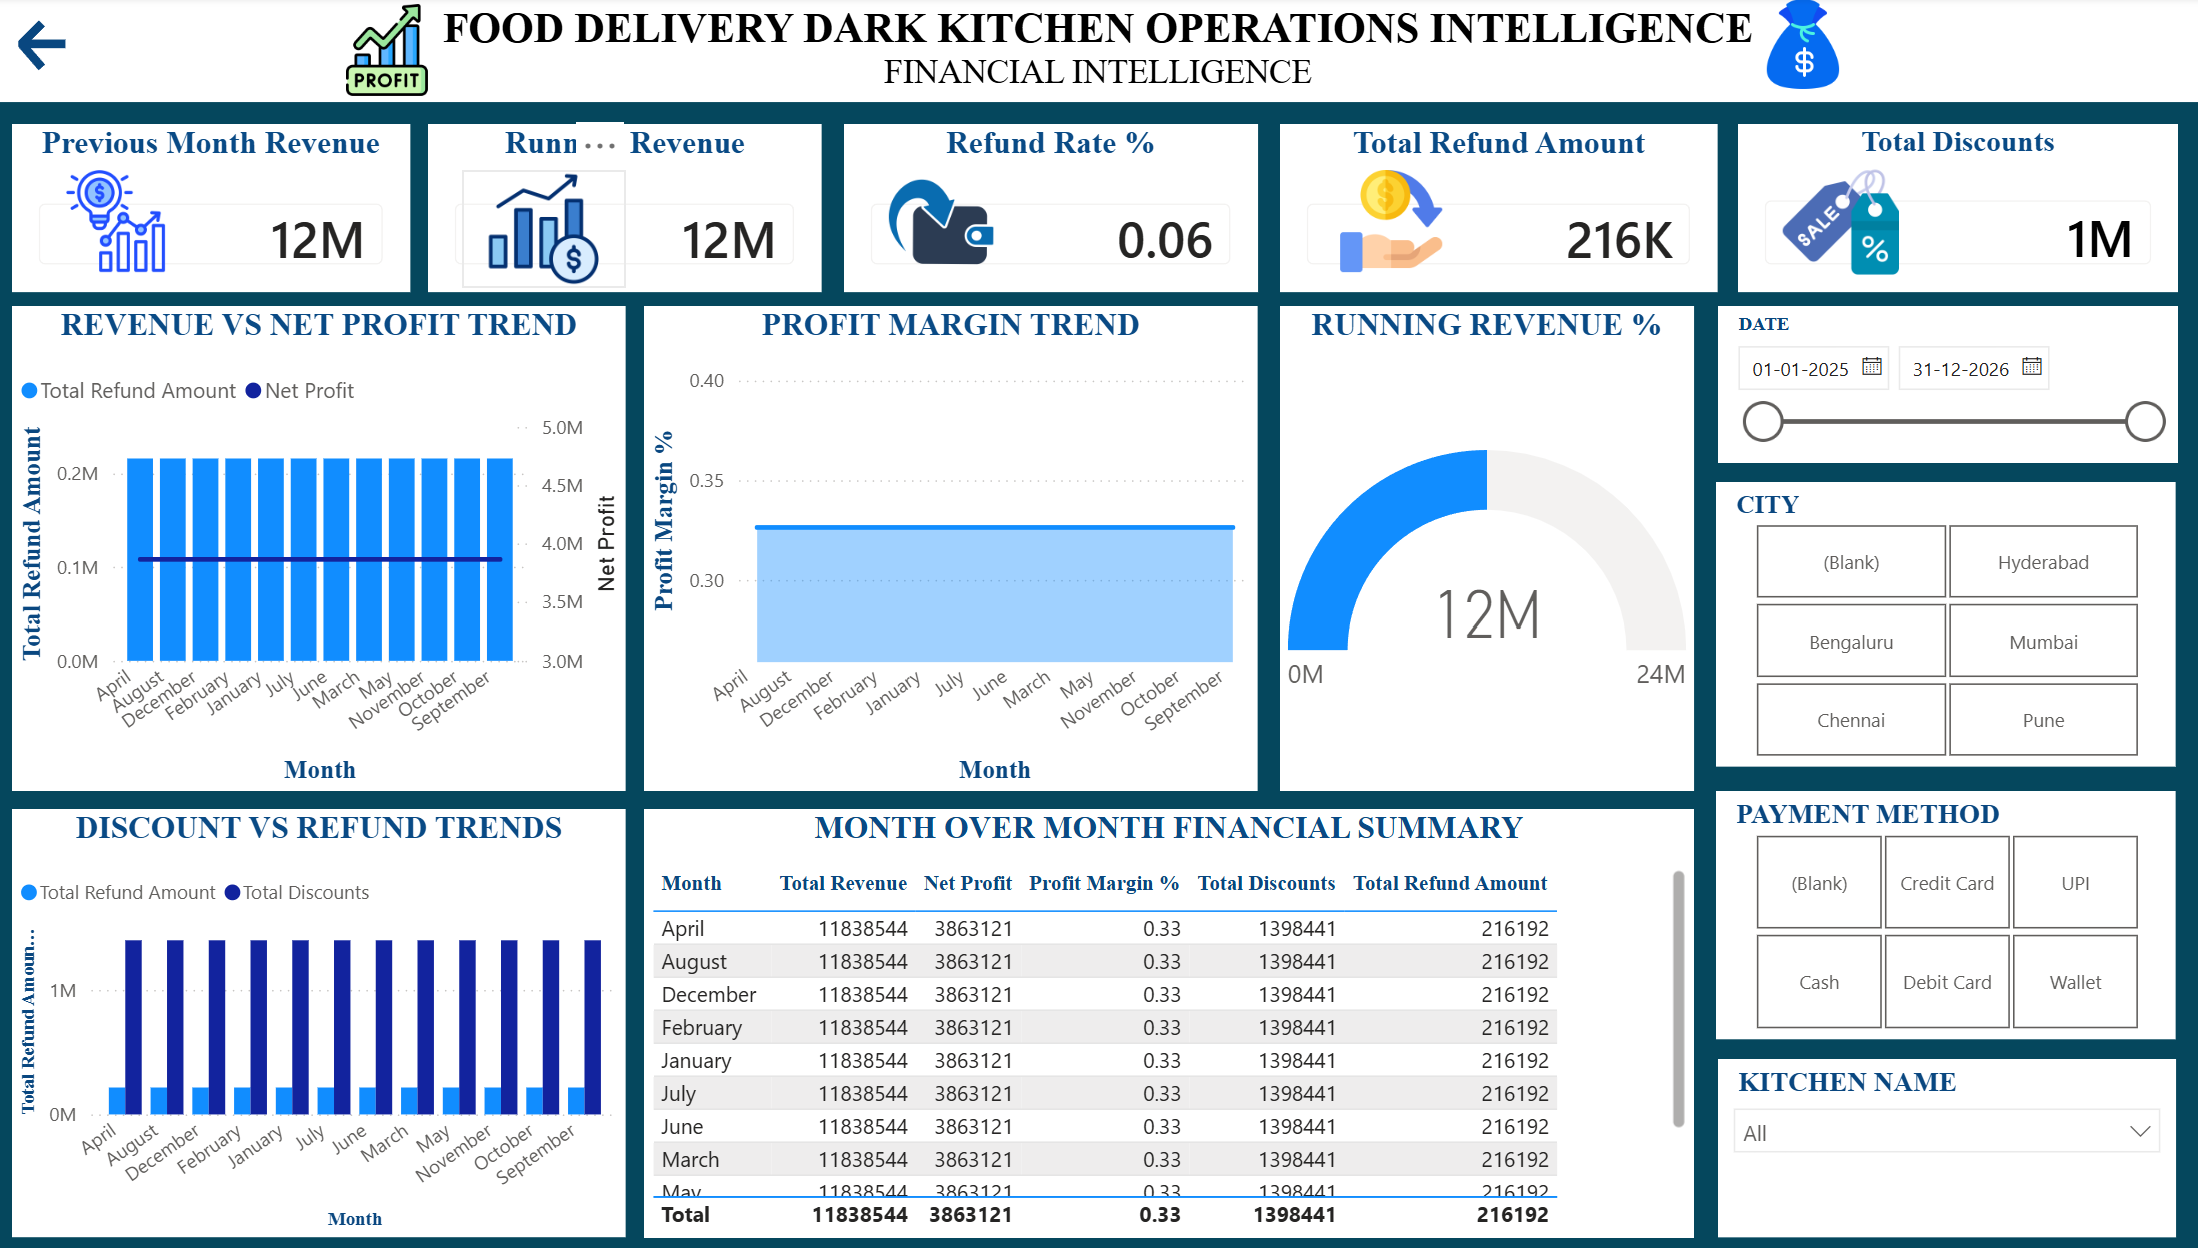

This screenshot's page, from the dashboard's own definition file:
{"tool":"powerbi","page":{"name":"Financial Intelligence ","canvas":[1400,800],"ordinal":3},"visuals":[{"type":"textbox","box":[0,0,1400,67.5],"z":0},{"type":"cardVisual","title":"Previous Month Revenue","fields":{"Data":["DB 4 Measures.Previous Month Revenue"]},"box":[8.9,81.5,253.3,106.9],"z":1000},{"type":"cardVisual","title":"Refund Rate %","fields":{"Data":["DB 4 Measures.Refund Rate %"]},"box":[538.4,81.5,263.5,106.9],"z":2000},{"type":"cardVisual","title":"Total Discounts","fields":{"Data":["DB 4 Measures.Total Discounts"]},"box":[1107.3,81.5,280,106.9],"z":3000},{"type":"cardVisual","title":"Total Refund Amount ","fields":{"Data":["DB 4 Measures.Total Refund Amount"]},"box":[815.8,81.5,278.7,106.9],"z":4000},{"type":"cardVisual","title":"Running Revenue","fields":{"Data":["DB 4 Measures.Running Revenue"]},"box":[273.6,81.5,250.7,106.9],"z":5000},{"type":"lineClusteredColumnComboChart","title":"REVENUE VS NET PROFIT TREND","fields":{"Category":["calendar.Month"],"Y":["DB 4 Measures.Total Refund Amount"],"Y2":["DB 1 Measures.Net Profit"]},"box":[8.9,197.3,390.7,308],"z":6000},{"type":"areaChart","title":"PROFIT MARGIN TREND","fields":{"Category":["calendar.Month"],"Y":["DB 1 Measures.Profit Margin %"]},"box":[411.1,197.3,390.7,308],"z":7000},{"type":"gauge","title":"RUNNING REVENUE %","fields":{"Y":["DB 4 Measures.Running Revenue"]},"box":[815.8,197.3,263.5,308],"z":8000},{"type":"clusteredColumnChart","title":"DISCOUNT VS REFUND TRENDS","fields":{"Category":["calendar.Month"],"Y":["DB 4 Measures.Total Refund Amount","DB 4 Measures.Total Discounts"]},"box":[8.9,516.7,390.7,272.4],"z":9000},{"type":"tableEx","title":"MONTH OVER MONTH FINANCIAL SUMMARY","fields":{"Values":["calendar.Month","DB 1 Measures.Total Revenue","DB 1 Measures.Net Profit","DB 1 Measures.Profit Margin %","DB 4 Measures.Total Discounts","DB 4 Measures.Total Refund Amount"]},"box":[411.1,516.7,668.2,272.4],"z":10000},{"type":"slicer","fields":{"Values":["calendar.Date"]},"box":[1094.5,197.3,292.7,99.3],"z":11000},{"type":"slicer","fields":{"Values":["customers.City"]},"box":[1093.3,309.3,292.7,180.7],"z":12000},{"type":"slicer","fields":{"Values":["orders.Payment_Method"]},"box":[1093.3,505.3,292.7,157.8],"z":13000},{"type":"slicer","fields":{"Values":["kitchens.Kitchen_Name"]},"box":[1094.5,675.8,291.5,113.3],"z":14000},{"type":"image","box":[36.9,110.7,76.4,64.9],"z":15000},{"type":"image","box":[295.3,110.7,104.4,75.1],"z":16000},{"type":"image","box":[554.9,110.7,90.4,66.2],"z":17000},{"type":"image","box":[845.1,110.7,82.7,64.9],"z":18000},{"type":"image","box":[1132.7,106.9,80.2,73.8],"z":19000},{"type":"image","box":[1084.4,0,128.5,61.1],"z":20000},{"type":"image","box":[166.7,5.1,161.6,58.5],"z":21000},{"type":"actionButton","box":[8.9,11.5,100,40],"z":22000}]}

Visuals, with their boxes in screenshot pixels (x1, y1, x2, y2), scaled from the page's 1400x800 canvas onto the 2198x1248 screenshot:
textbox: bbox(0, 0, 2197, 105)
"Previous Month Revenue" cardVisual: bbox(14, 127, 412, 294)
"Refund Rate %" cardVisual: bbox(845, 127, 1259, 294)
"Total Discounts" cardVisual: bbox(1738, 127, 2178, 294)
"Total Refund Amount " cardVisual: bbox(1281, 127, 1718, 294)
"Running Revenue" cardVisual: bbox(430, 127, 823, 294)
"REVENUE VS NET PROFIT TREND" lineClusteredColumnComboChart: bbox(14, 308, 627, 788)
"PROFIT MARGIN TREND" areaChart: bbox(645, 308, 1259, 788)
"RUNNING REVENUE %" gauge: bbox(1281, 308, 1695, 788)
"DISCOUNT VS REFUND TRENDS" clusteredColumnChart: bbox(14, 806, 627, 1231)
"MONTH OVER MONTH FINANCIAL SUMMARY" tableEx: bbox(645, 806, 1695, 1231)
slicer - calendar.Date: bbox(1718, 308, 2178, 463)
slicer - customers.City: bbox(1716, 483, 2176, 764)
slicer - orders.Payment_Method: bbox(1716, 788, 2176, 1034)
slicer - kitchens.Kitchen_Name: bbox(1718, 1054, 2176, 1231)
image: bbox(58, 173, 178, 274)
image: bbox(464, 173, 628, 290)
image: bbox(871, 173, 1013, 276)
image: bbox(1327, 173, 1457, 274)
image: bbox(1778, 167, 1904, 282)
image: bbox(1703, 0, 1904, 95)
image: bbox(262, 8, 515, 99)
actionButton: bbox(14, 18, 171, 80)
